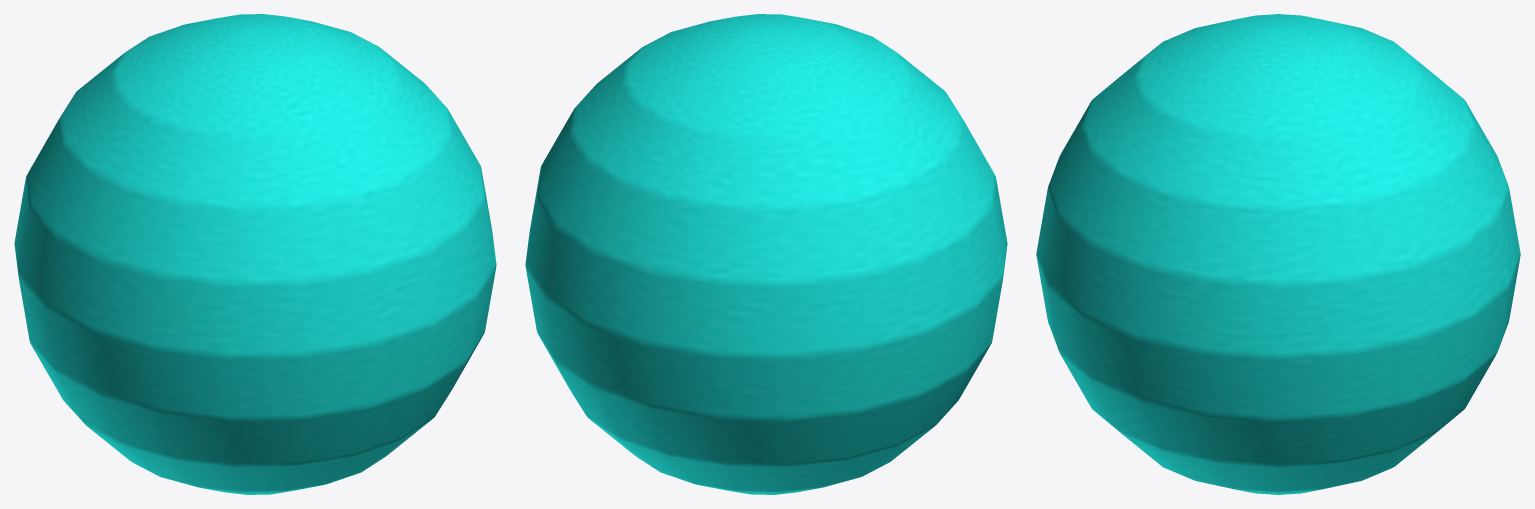
The model's file is aws_Ball_01_visual.DAE.
3 renders of one model, left to right at view 1: azimuth 30°, elevation 25°; view 2: azimuth 150°, elevation 25°; view 3: azimuth 270°, elevation 25°, orthographic.
Parts seen in each view (by area): view 1: aws_Ball_01_visual; view 2: aws_Ball_01_visual; view 3: aws_Ball_01_visual.
Boxes of the visible parts, x1,y1,x2,y2 form: aws_Ball_01_visual: (14, 14, 496, 494); aws_Ball_01_visual: (525, 14, 1007, 494); aws_Ball_01_visual: (1036, 14, 1520, 494).
Size of the model in its own units: 63 by 63 by 63.02.
Materials: 1 (1 with a texture image).
